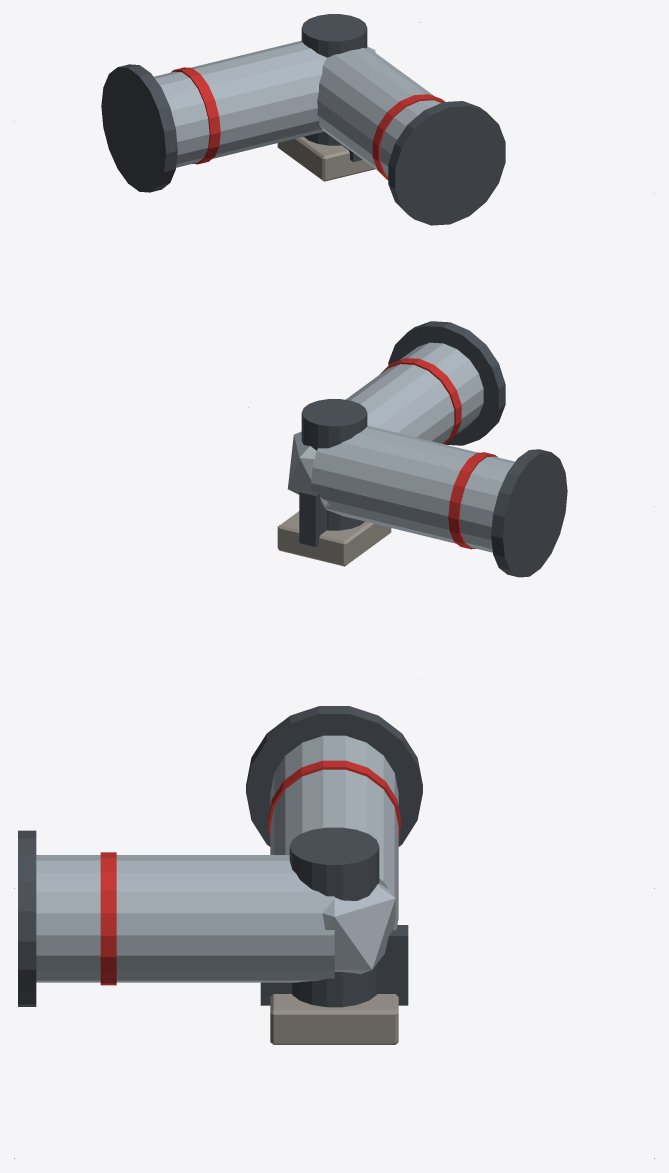
Rendered from tuyau_coude_t3.glb.
3 renders of one model, top to bottom at view 1: azimuth 30°, elevation 25°; view 2: azimuth 150°, elevation 25°; view 3: azimuth 270°, elevation 25°, orthographic. The views are drawn at different scales.
Parts seen in each view (by area): view 1: pieces_inox.014, pieces_acier_sombre.044, pieces_beton.044, pieces_rive_t3.014; view 2: pieces_inox.014, pieces_acier_sombre.044, pieces_beton.044, pieces_rive_t3.014; view 3: pieces_inox.014, pieces_acier_sombre.044, pieces_beton.044, pieces_rive_t3.014.
Boxes of the visible parts, <box> form: pieces_inox.014: <box>154,40,440,176</box>; pieces_acier_sombre.044: <box>101,14,505,225</box>; pieces_beton.044: <box>277,137,375,181</box>; pieces_rive_t3.014: <box>171,67,445,180</box>; pieces_inox.014: <box>287,342,514,552</box>; pieces_acier_sombre.044: <box>299,321,567,577</box>; pieces_beton.044: <box>277,511,391,566</box>; pieces_rive_t3.014: <box>380,358,497,549</box>; pieces_inox.014: <box>36,735,398,982</box>; pieces_acier_sombre.044: <box>18,706,422,1007</box>; pieces_beton.044: <box>270,994,398,1044</box>; pieces_rive_t3.014: <box>100,760,400,985</box>.
Size of the model in its own units: 1 by 0.318 by 1.
